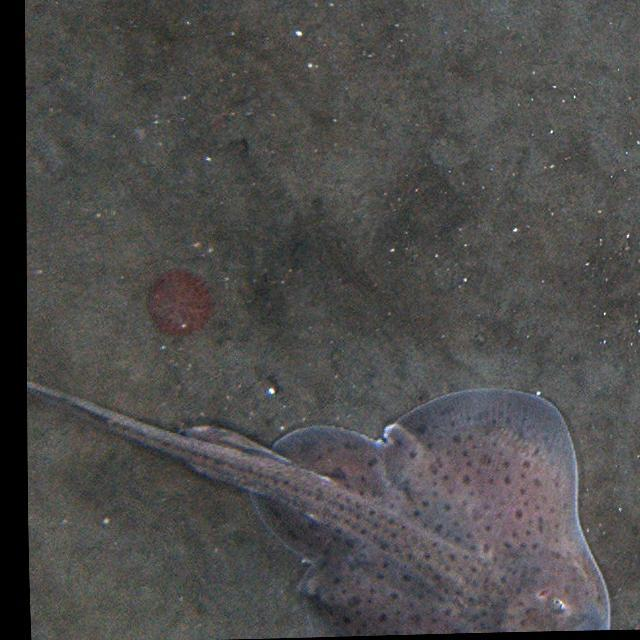skate: (27, 362, 618, 630)
